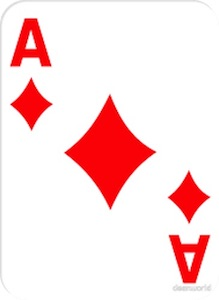AceOfDiamonds: (2, 1, 219, 298)
